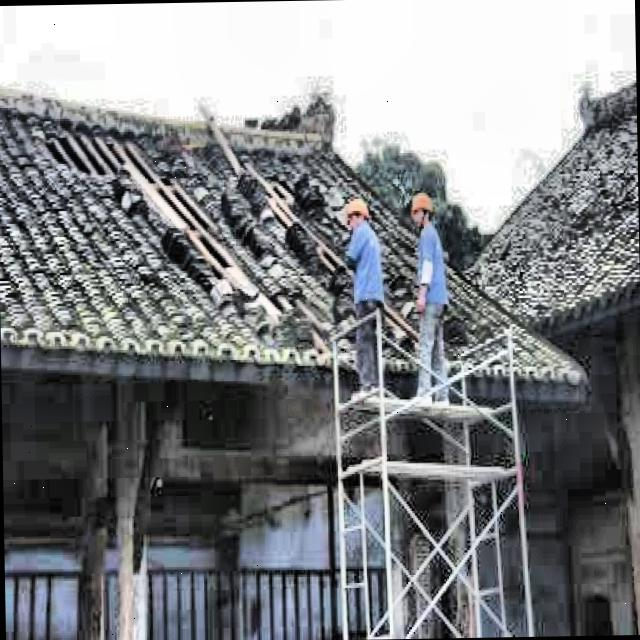helmet: (410, 188, 434, 228), (345, 191, 368, 232)
